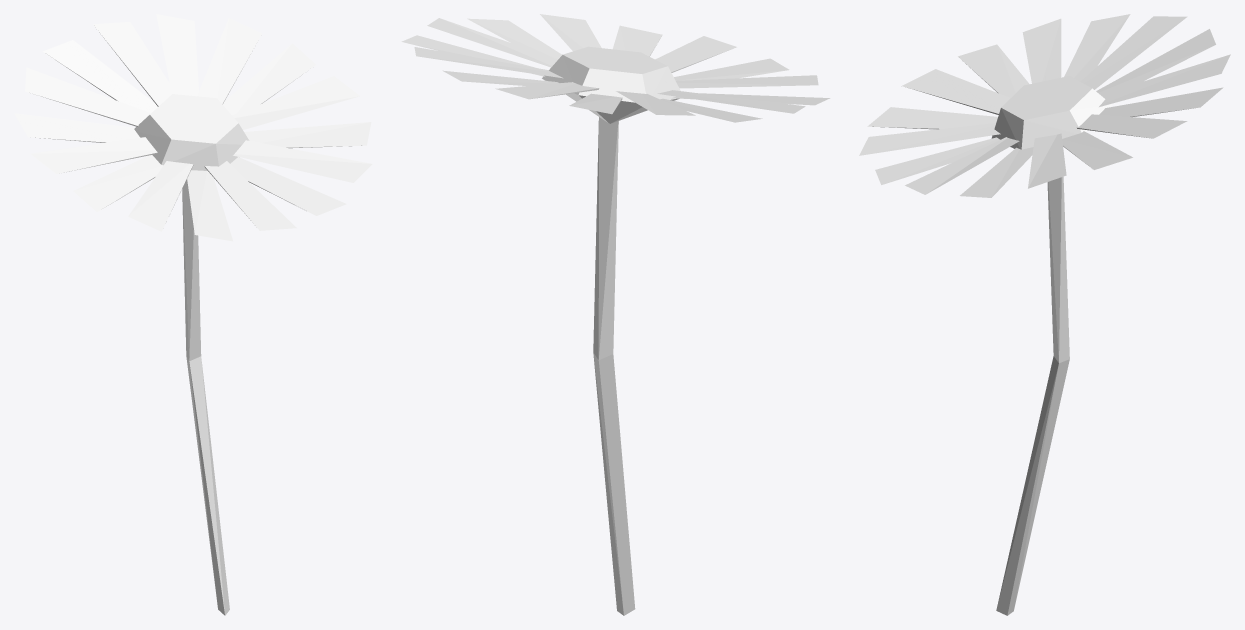
The model's file is Env_Daisy_Low_Detail_01.glb.
3 renders of one model, left to right at view 1: azimuth 30°, elevation 25°; view 2: azimuth 150°, elevation 25°; view 3: azimuth 270°, elevation 25°, orthographic. The views are drawn at different scales.
Parts seen in each view (by area): view 1: Env_Daisy_Low_Detail_01; view 2: Env_Daisy_Low_Detail_01; view 3: Env_Daisy_Low_Detail_01.
Part boxes in pixels (x1=…): Env_Daisy_Low_Detail_01: x1=14, y1=14, x2=372, y2=615; Env_Daisy_Low_Detail_01: x1=401, y1=14, x2=830, y2=615; Env_Daisy_Low_Detail_01: x1=859, y1=14, x2=1230, y2=615.
Size of the model in its own units: 0.1196 by 0.1873 by 0.1158.
Materials: 1 (1 with a texture image).
